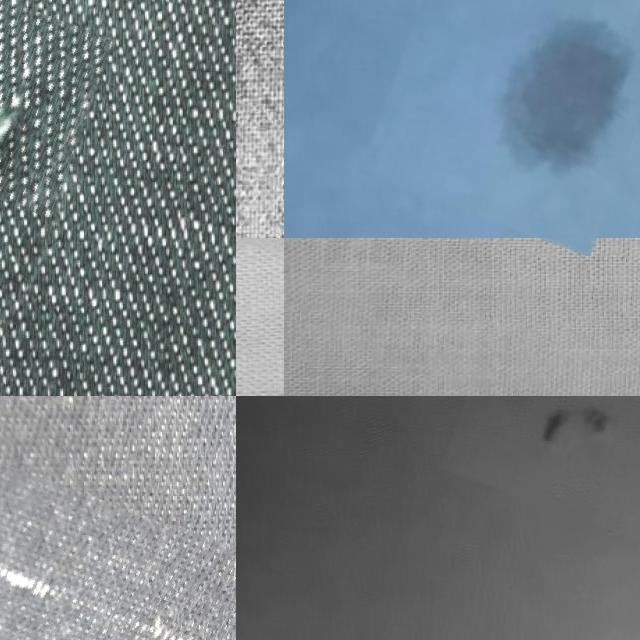Hole: (386, 0, 640, 240), (452, 396, 640, 527)
Thread_other: (0, 515, 236, 640), (0, 4, 100, 210)
